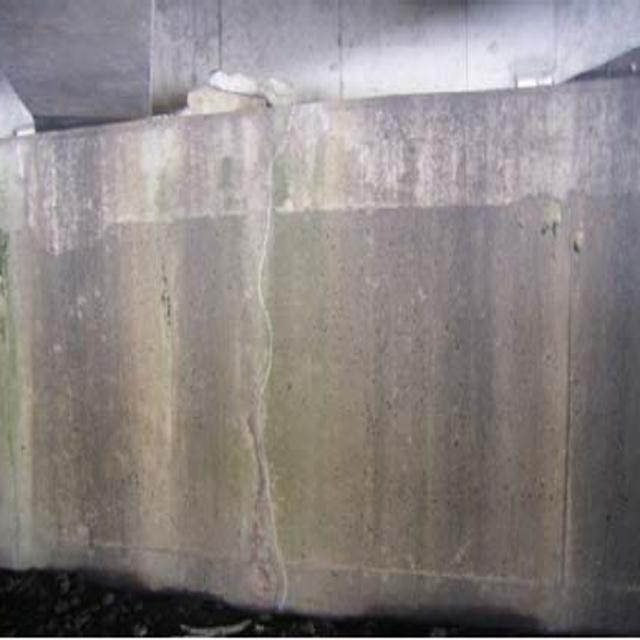crack: (227, 113, 294, 627)
